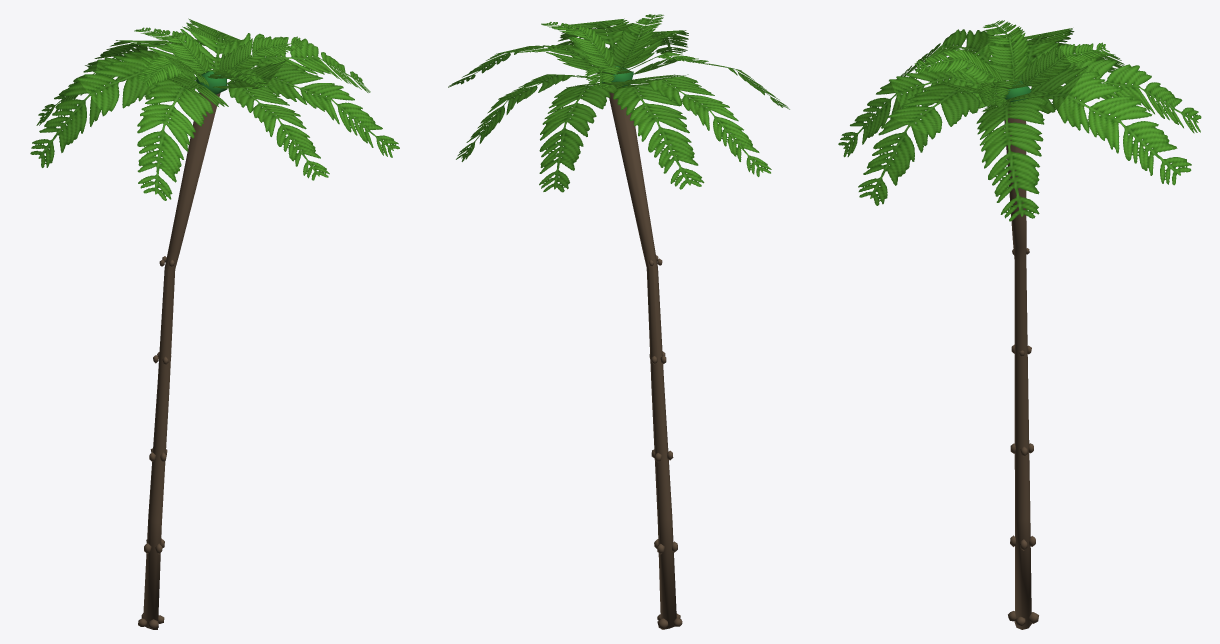
File: tree-vn-coconut.glb
The picture shows the model from 3 angles, left to right: view 1: azimuth 30°, elevation 25°; view 2: azimuth 150°, elevation 25°; view 3: azimuth 270°, elevation 25°; orthographic projection. The views are drawn at different scales.
Parts seen in each view (by area): view 1: tree-vn-coconut; view 2: tree-vn-coconut; view 3: tree-vn-coconut.
Part boxes in pixels (x1,y1,x2,y2): tree-vn-coconut: (30,18,399,629); tree-vn-coconut: (448,14,789,629); tree-vn-coconut: (838,20,1201,629).
Size of the model in its own units: 4.75 by 8 by 4.54.
3 materials, 1 textured.
